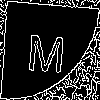M: (25, 25, 69, 73)
